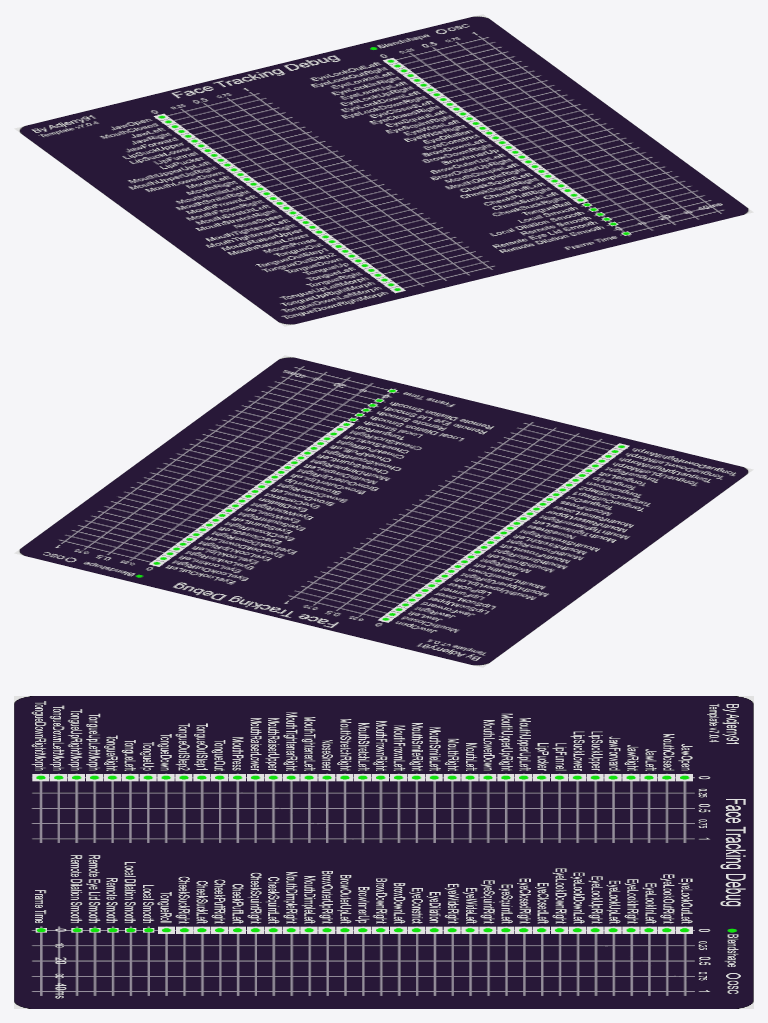
File: FT_UE_Debug.fbx
3 views of the same model, one above another, from view 1: azimuth 30°, elevation 25°; view 2: azimuth 150°, elevation 25°; view 3: azimuth 270°, elevation 25° (orthographic). The views are drawn at different scales.
Parts seen in each view (by area): view 1: Debug; view 2: Debug; view 3: Debug.
Boxes of the visible parts, x1=… form: Debug: x1=14, y1=14, x2=753, y2=326; Debug: x1=14, y1=355, x2=753, y2=667; Debug: x1=14, y1=696, x2=753, y2=1008.
Bounding box in the file's own units: 0.75 × 0.0002 × 0.75.
